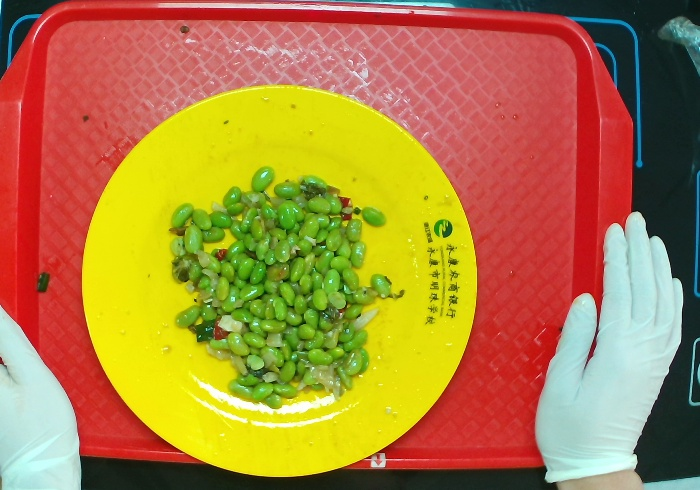YKMZ-Huang_Se_Mian_Pan: (81, 84, 493, 482)
